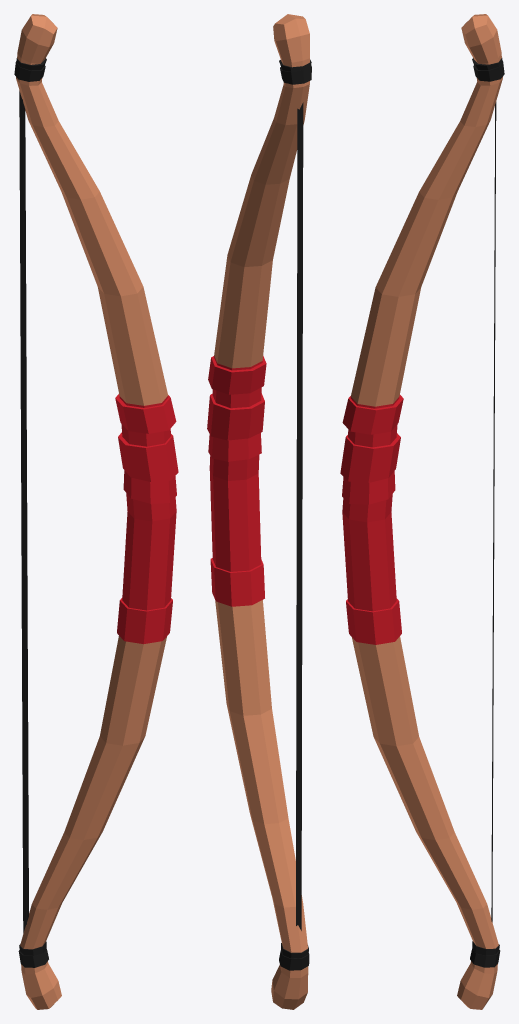
Rendered from Bow.fbx.
3 views of the same model, side by side, from view 1: azimuth 90°, elevation 25°; view 2: azimuth 210°, elevation 25°; view 3: azimuth 270°, elevation 25° (orthographic).
Visible parts, largest first — view 1: Bow; view 2: Bow; view 3: Bow.
Part boxes in pixels (left/top/right/bottom): Bow: left=14, top=14, right=178, bottom=1009; Bow: left=207, top=14, right=311, bottom=1009; Bow: left=340, top=14, right=504, bottom=1009.
Bounding box in the file's own units: 10.47 × 204 × 30.57.
